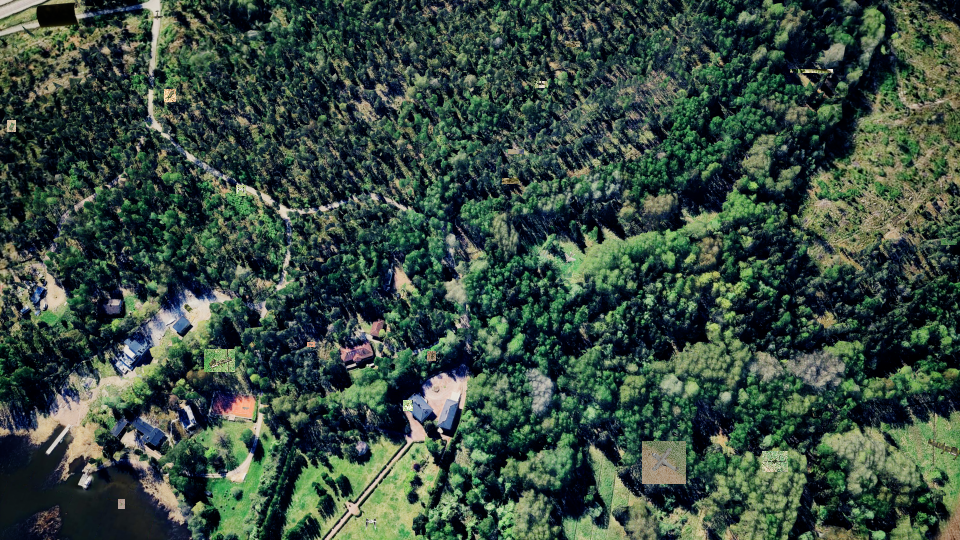condor: (642, 441, 686, 484)
hangar: (790, 69, 833, 73)
helicopter: (762, 451, 788, 472)
jammer: (7, 120, 16, 132)
jet_plane: (941, 239, 957, 245)
large_launcher: (204, 349, 235, 372)
large_tower: (566, 41, 580, 47)
medium_launcher: (502, 178, 519, 184)
medium_plane: (535, 81, 548, 88)
mine_roller: (164, 89, 176, 102)
small_launcher: (118, 499, 125, 509)
small_plane: (427, 351, 436, 361)
small_tower: (403, 400, 413, 411)
spacecraft: (236, 185, 246, 196)
ta-ta: (307, 342, 315, 347)
tank: (508, 149, 524, 154)
